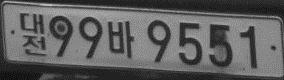1: (238, 25, 261, 69)
5: (208, 23, 232, 66), (178, 22, 202, 64)
9: (48, 14, 73, 57), (78, 15, 103, 58), (147, 19, 171, 62)
대전_V: (19, 12, 47, 56)
바: (107, 21, 135, 58)
